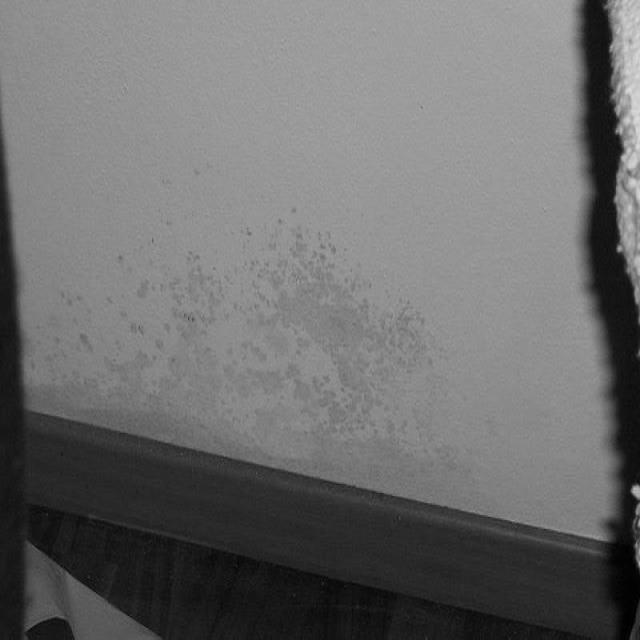stain marks: (0, 198, 463, 511)
